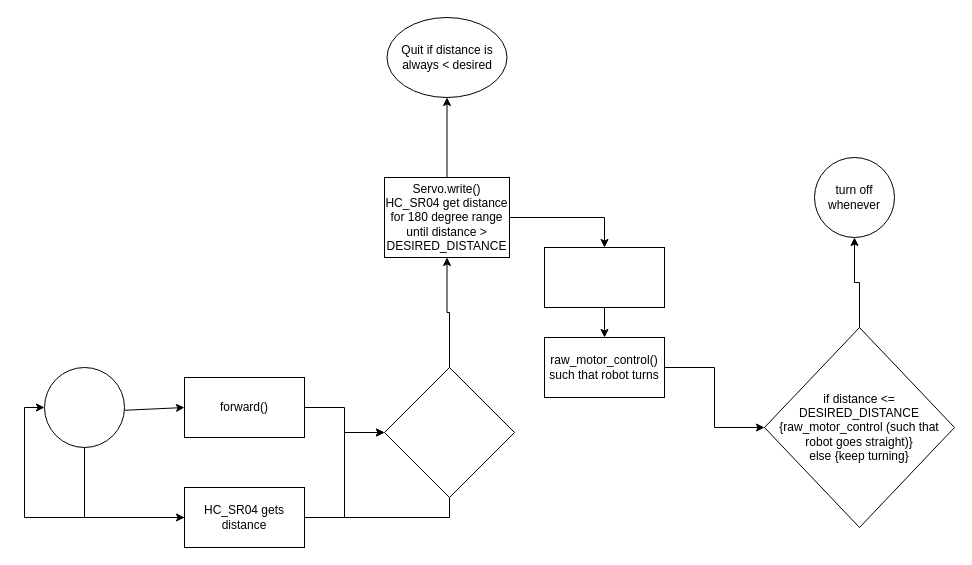
This 972x565 diagram has some shape labels left out. The box of each missing label's shape, as (x1, y1, x2, y2) in pixels:
back up (idr how): (544, 246, 664, 308)
if (distance <= DESIRED_DISTANCE) stop else {repeat}: (384, 366, 514, 498)
Start: (44, 366, 124, 448)
